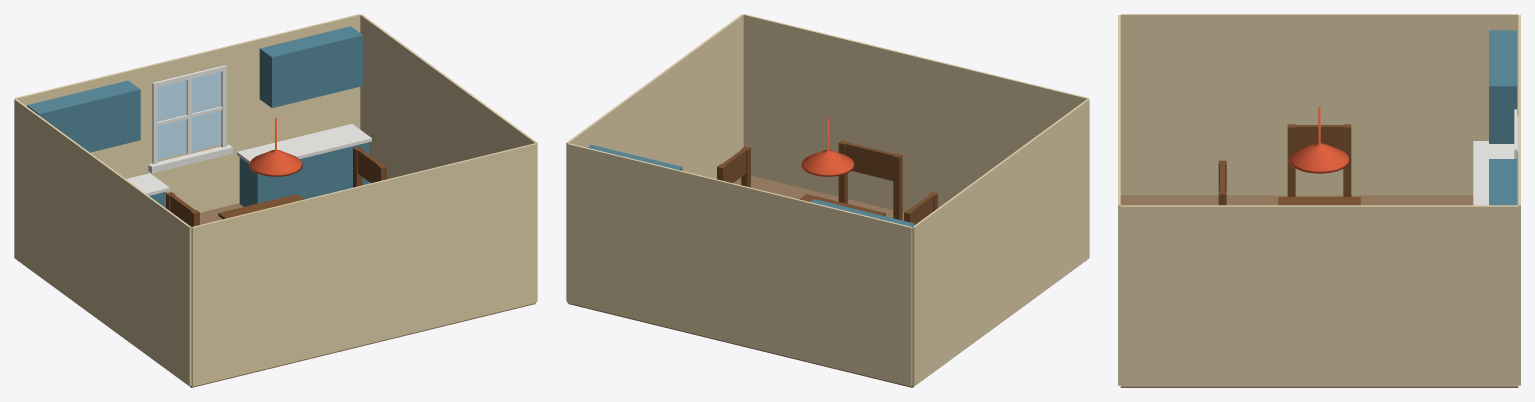
Rendered from kahvalti_cevre.glb.
The picture shows the model from 3 angles, left to right: view 1: azimuth 30°, elevation 25°; view 2: azimuth 150°, elevation 25°; view 3: azimuth 270°, elevation 25°; orthographic projection. The views are drawn at different scales.
Visible parts, largest first — view 1: K_duvarlar, K_dolap, K_pencere, K_cerceve, K_tezgah, K_sandalye, K_avize, K_yer, K_masa; view 2: K_duvarlar, K_sandalye, K_yer, K_avize, K_dolap; view 3: K_duvarlar, K_dolap, K_yer, K_sandalye, K_avize, K_tezgah, K_masa.
Part boxes in pixels (<box>): K_duvarlar: <box>14,14,537,386</box>; K_dolap: <box>27,26,368,207</box>; K_pencere: <box>157,72,221,159</box>; K_cerceve: <box>148,65,232,173</box>; K_tezgah: <box>126,124,371,195</box>; K_sandalye: <box>166,146,386,226</box>; K_avize: <box>249,118,302,176</box>; K_yer: <box>17,182,535,387</box>; K_masa: <box>218,194,304,219</box>; K_duvarlar: <box>566,14,1089,386</box>; K_sandalye: <box>717,140,937,224</box>; K_yer: <box>568,175,1086,387</box>; K_avize: <box>801,118,854,176</box>; K_dolap: <box>587,144,914,226</box>; K_duvarlar: <box>1118,14,1520,386</box>; K_dolap: <box>1489,30,1516,205</box>; K_yer: <box>1120,195,1518,387</box>; K_sandalye: <box>1218,124,1351,205</box>; K_avize: <box>1289,107,1349,173</box>; K_tezgah: <box>1473,141,1514,205</box>; K_masa: <box>1278,197,1360,205</box>.
Size of the model in its own units: 344 by 154 by 304.
